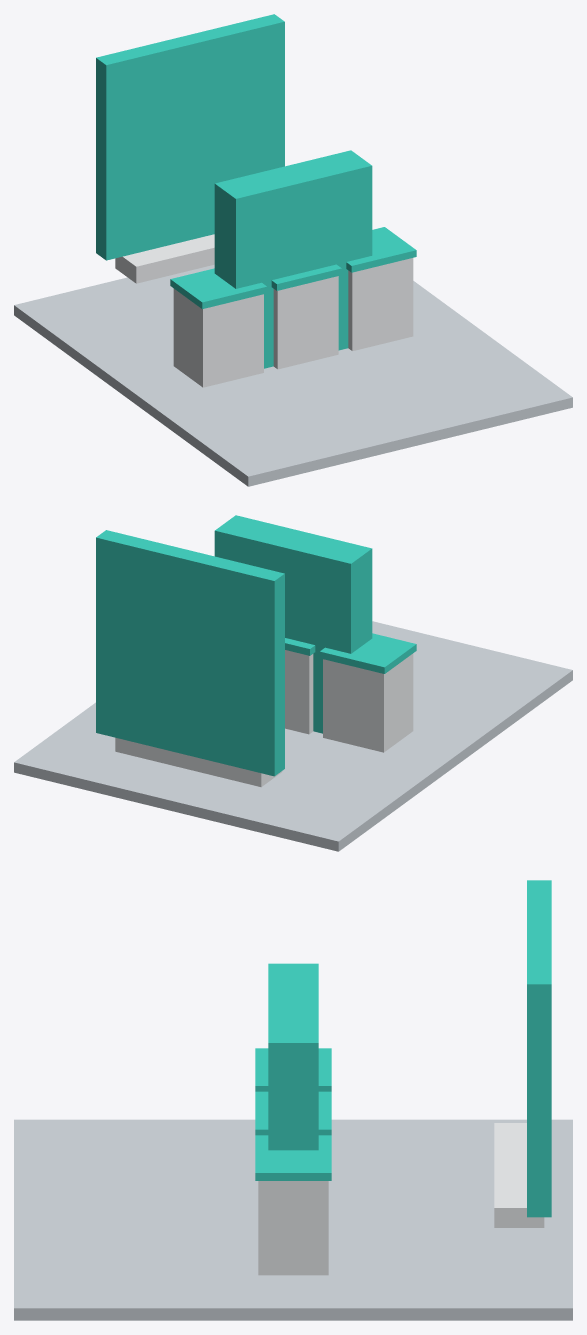
3 views of the same model, one above another, from view 1: azimuth 30°, elevation 25°; view 2: azimuth 150°, elevation 25°; view 3: azimuth 270°, elevation 25° (orthographic). The views are drawn at different scales.
Parts seen in each view (by area): view 1: Exhibition Booth Concept; view 2: Exhibition Booth Concept; view 3: Exhibition Booth Concept.
Part boxes in pixels (x1,y1,x2,y2): Exhibition Booth Concept: (14,14,572,486); Exhibition Booth Concept: (14,515,572,851); Exhibition Booth Concept: (14,880,572,1320).
Bounding box in the file's own units: 4 × 2.9 × 5.
